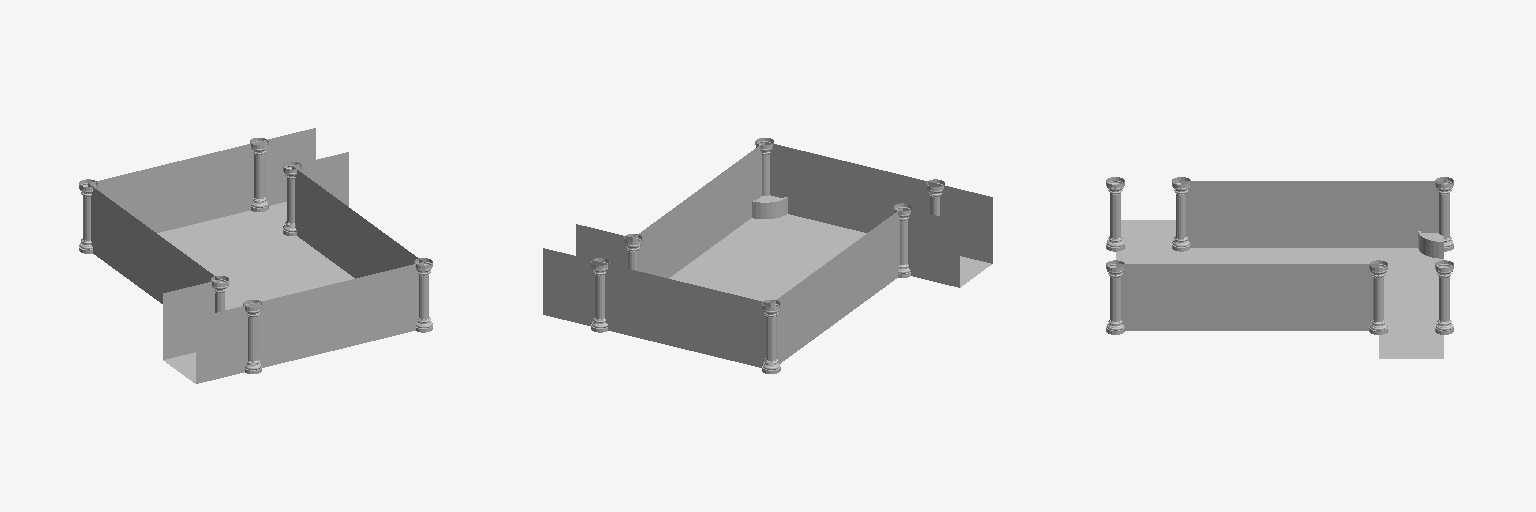
File: museum_hall.obj
The picture shows the model from 3 angles: view 1: azimuth 30°, elevation 25°; view 2: azimuth 150°, elevation 25°; view 3: azimuth 270°, elevation 25°; orthographic projection.
Parts seen in each view (by area): view 1: walls, floor, columns; view 2: walls, floor, columns, planter2; view 3: walls, floor, columns, planter2.001.
Part boxes in pixels (x1,y1,x2,y2): walls: (88,128,423,383); floor: (157,202,354,383); columns: (79,138,432,373); walls: (543,142,992,367); floor: (669,214,991,301); columns: (591,138,944,373); planter2: (752,195,787,218); walls: (1116,181,1443,330); floor: (1116,220,1443,358); columns: (1106,177,1453,334); planter2.001: (1418,231,1443,258).
Size of the model in its own units: 25 by 5.6 by 26.44.